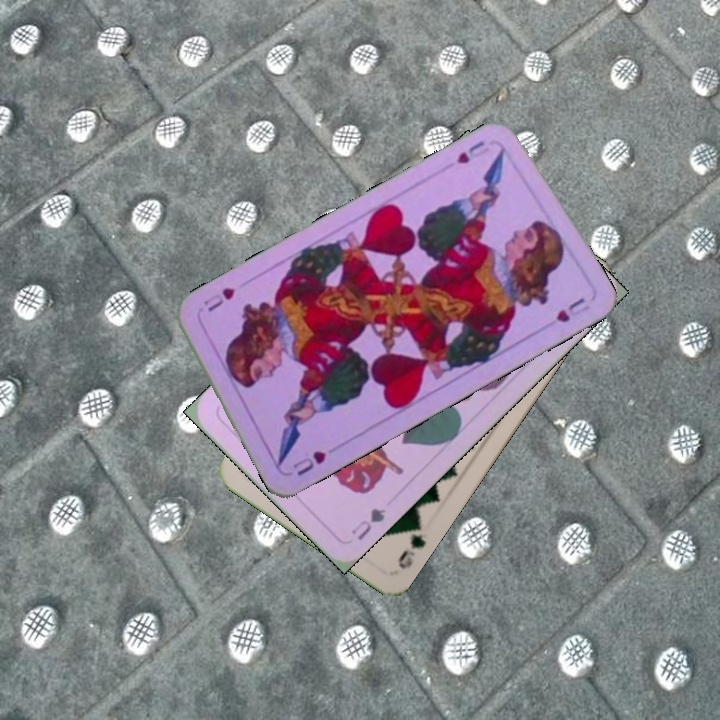G9: (393, 516, 429, 572)
GU: (347, 504, 389, 544)
HU: (452, 136, 504, 167), (288, 446, 329, 479)
